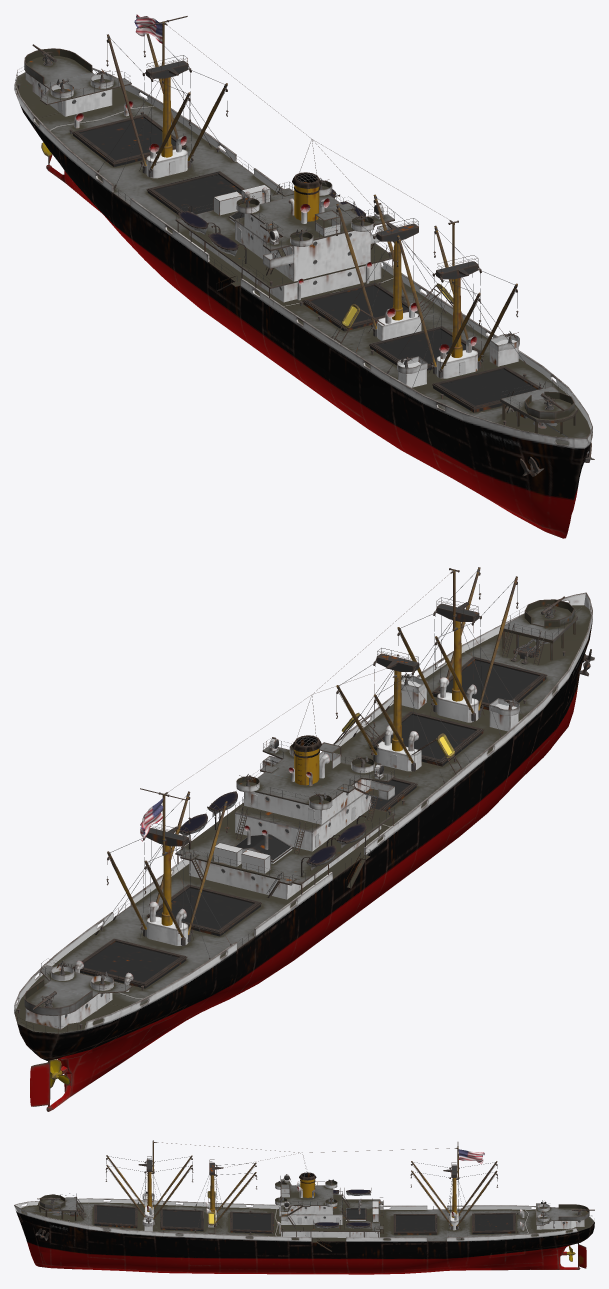
The model's file is container_ship_empty.glb.
The picture shows the model from 3 angles, top to bottom: view 1: azimuth 30°, elevation 25°; view 2: azimuth 150°, elevation 25°; view 3: azimuth 270°, elevation 25°; orthographic projection. The views are drawn at different scales.
Parts seen in each view (by area): view 1: uvflatten1; view 2: uvflatten1; view 3: uvflatten1.
Boxes of the visible parts, <box> form: uvflatten1: <box>14,14,594,538</box>; uvflatten1: <box>14,567,594,1111</box>; uvflatten1: <box>14,1140,594,1274</box>.
Bounding box in the file's own units: 0.0212 × 0.0343 × 0.1407.
1 material, 1 textured.
